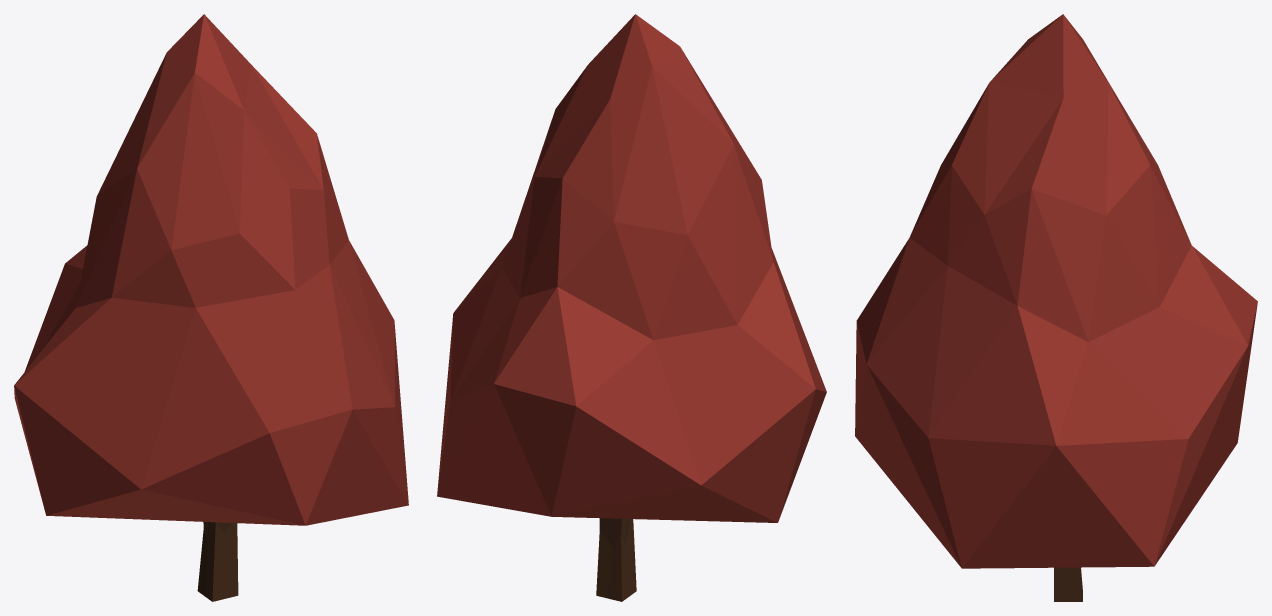
The model's file is Tree_14_Red.fbx.
3 views of the same model, side by side, from view 1: azimuth 30°, elevation 25°; view 2: azimuth 150°, elevation 25°; view 3: azimuth 270°, elevation 25° (orthographic).
Visible parts, largest first — view 1: Tree_14_Red_Part_1, Tree_14_Red_Part_2; view 2: Tree_14_Red_Part_1, Tree_14_Red_Part_2; view 3: Tree_14_Red_Part_1, Tree_14_Red_Part_2.
Boxes of the visible parts, bbox=[...] form: Tree_14_Red_Part_1: bbox=[14, 14, 408, 525]; Tree_14_Red_Part_2: bbox=[197, 522, 238, 601]; Tree_14_Red_Part_1: bbox=[437, 14, 826, 522]; Tree_14_Red_Part_2: bbox=[596, 518, 636, 601]; Tree_14_Red_Part_1: bbox=[855, 14, 1257, 568]; Tree_14_Red_Part_2: bbox=[1054, 567, 1082, 601].
Bounding box in the file's own units: 527 × 791 × 503.
